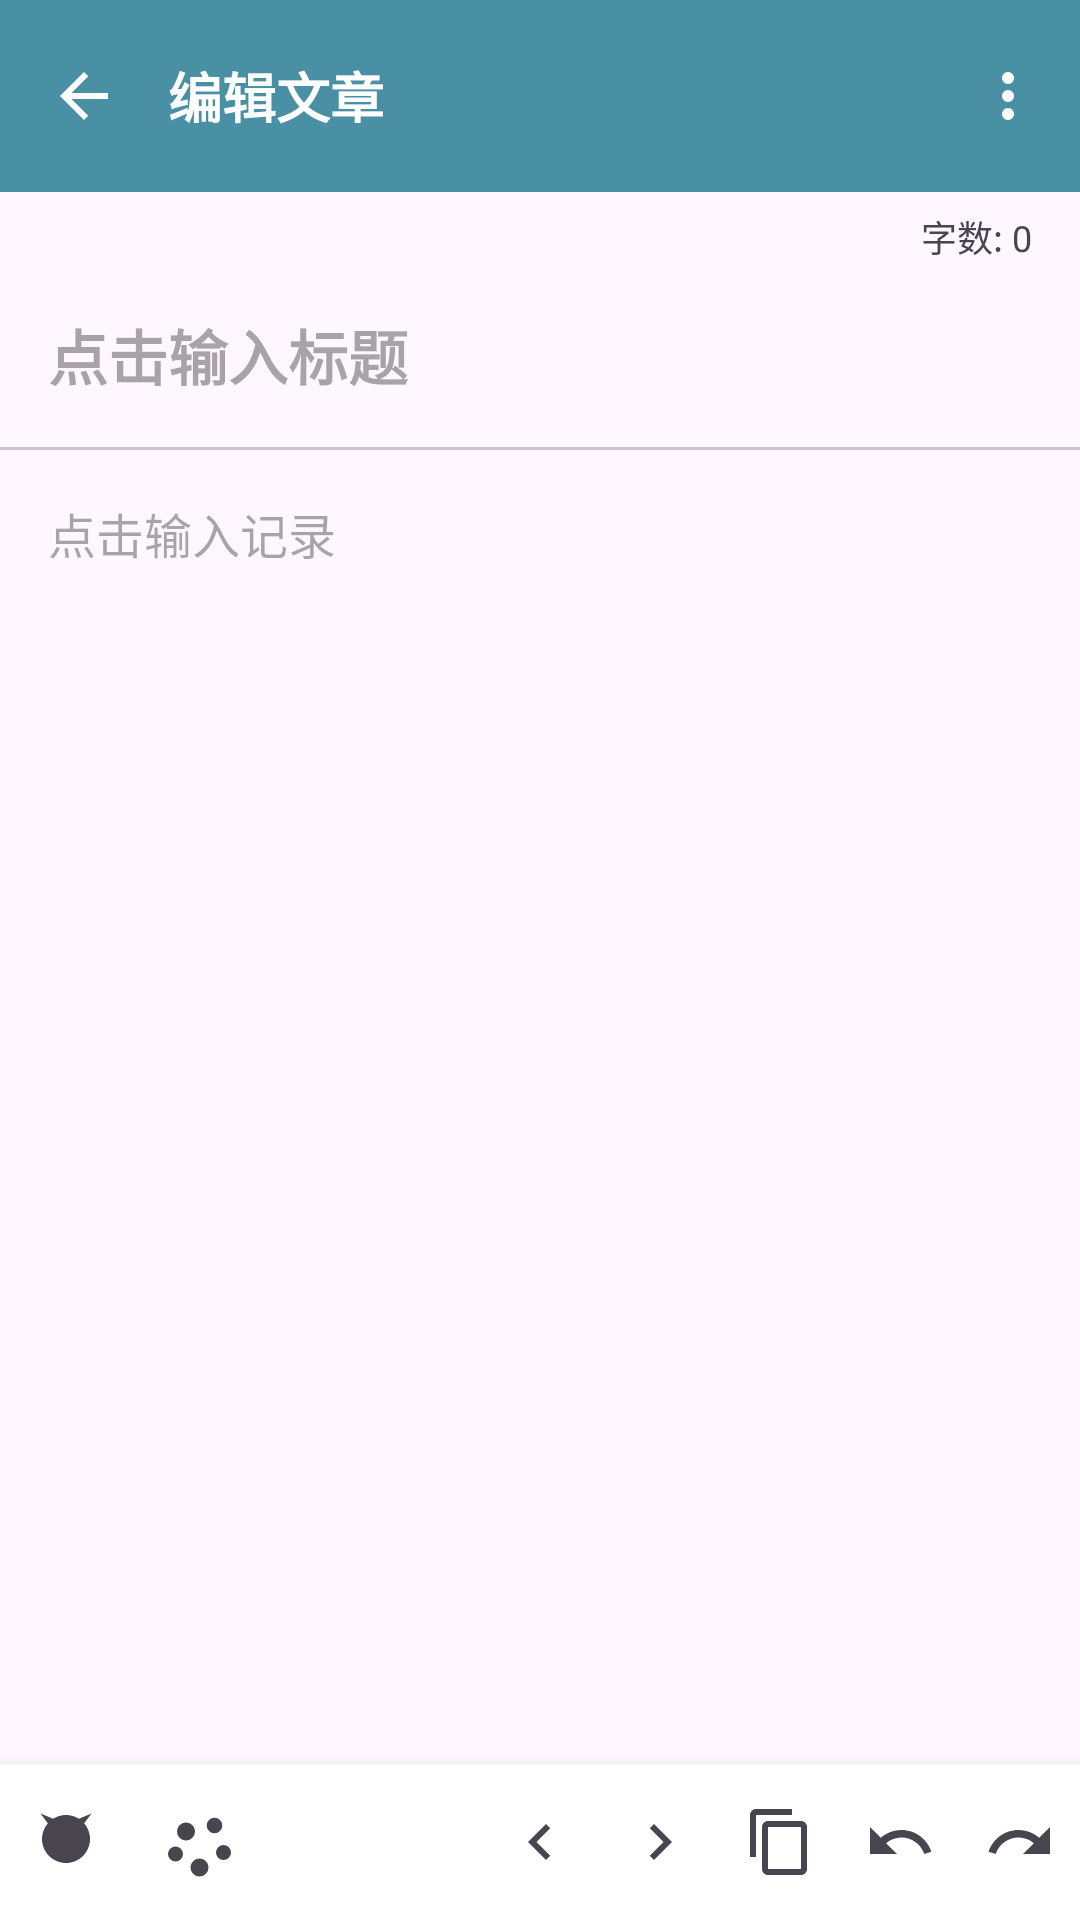

Icons on this 1080*1920 Android screen, each with the point to tap as point (x, y):
上一个: point (539, 1842)
下一个: point (661, 1842)
复制: point (778, 1842)
撤销: point (901, 1840)
更多: point (1008, 96)
爪子: point (199, 1847)
猫咪: point (66, 1838)
重做: point (1019, 1840)
